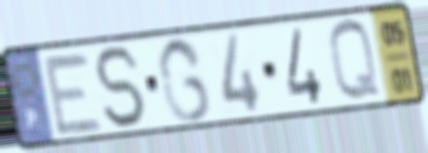4: (218, 31, 263, 116), (286, 25, 324, 107)
E: (38, 50, 107, 138)
G: (154, 34, 214, 126)
Q: (326, 17, 385, 106)
S: (91, 43, 152, 132)
